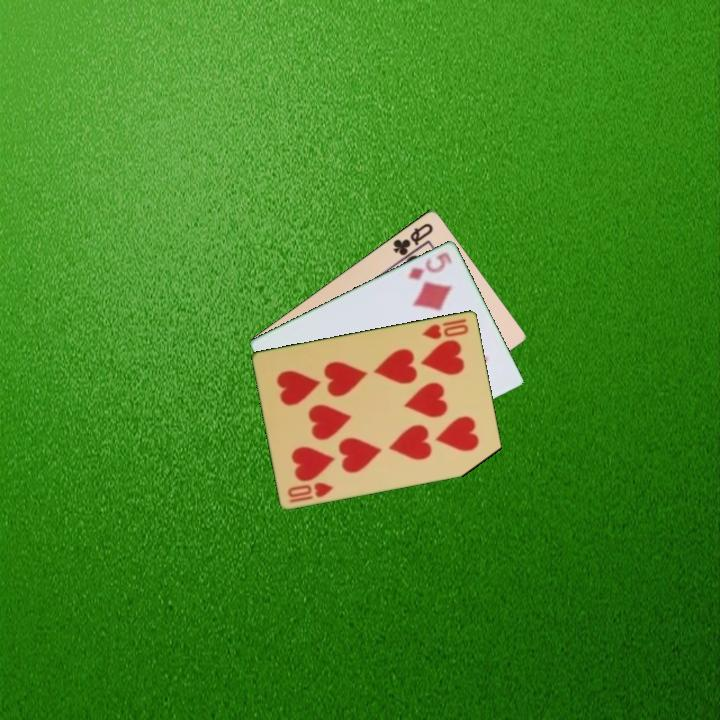10h: (418, 315, 471, 342), (284, 478, 336, 505)
5d: (404, 248, 455, 283)
Qc: (389, 219, 436, 263)
